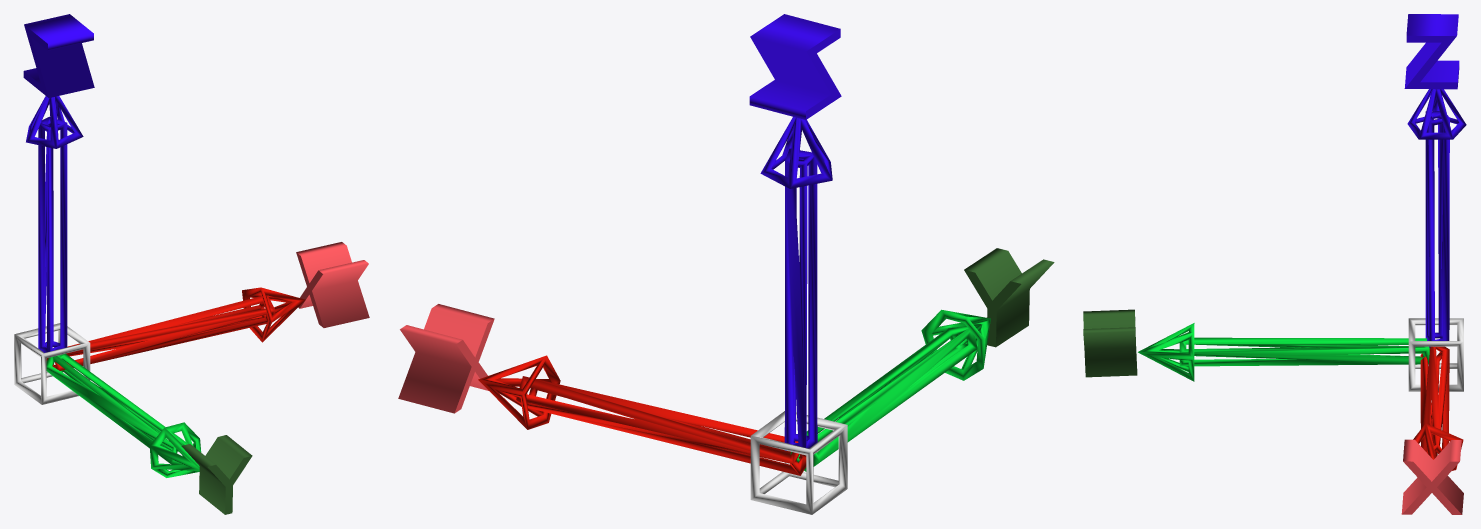
The model's file is EjeAusar.fbx.
3 renders of one model, left to right at view 1: azimuth 30°, elevation 25°; view 2: azimuth 150°, elevation 25°; view 3: azimuth 270°, elevation 25°, orthographic. The views are drawn at different scales.
Visible parts, largest first — view 1: z.002, Text.002, Text.003, Text.001; view 2: z.002, Text.002, Text.003, Text.001; view 3: z.002, Text.001, Text.003, Text.002.
Part boxes in pixels (left/top/right/bottom): z.002: left=14, top=96, right=305, bottom=477; Text.002: left=296, top=242, right=369, bottom=327; Text.003: left=23, top=14, right=94, bottom=97; Text.001: left=181, top=435, right=252, bottom=514; z.002: left=478, top=117, right=990, bottom=514; Text.002: left=398, top=304, right=494, bottom=413; Text.003: left=749, top=14, right=841, bottom=119; Text.001: left=964, top=248, right=1054, bottom=347; z.002: left=1138, top=89, right=1466, bottom=470; Text.001: left=1083, top=309, right=1137, bottom=377; Text.003: left=1404, top=14, right=1459, bottom=89; Text.002: left=1401, top=439, right=1463, bottom=514.
Size of the model in its own units: 437 by 458 by 445.
